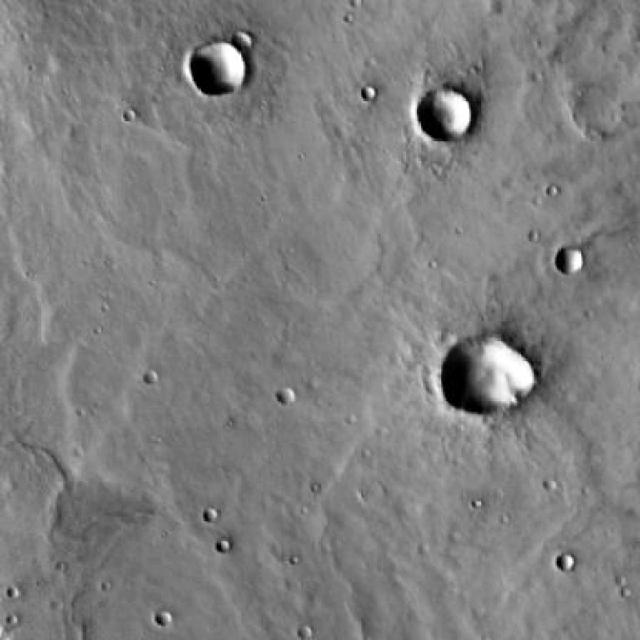crater: (444, 336, 530, 419), (189, 41, 249, 98), (420, 89, 477, 142), (555, 244, 583, 270), (0, 621, 26, 640), (234, 28, 254, 47), (276, 385, 295, 403), (556, 556, 575, 572), (219, 535, 236, 551)
